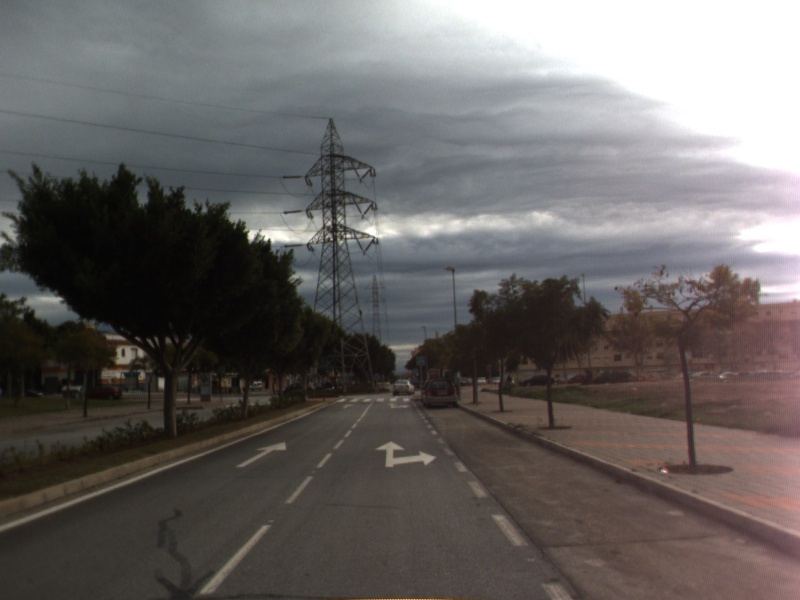STRAIGHT: (233, 440, 288, 469), (341, 402, 356, 410)
STRAIGHT_RIGHT: (373, 439, 439, 469), (386, 401, 412, 410)
